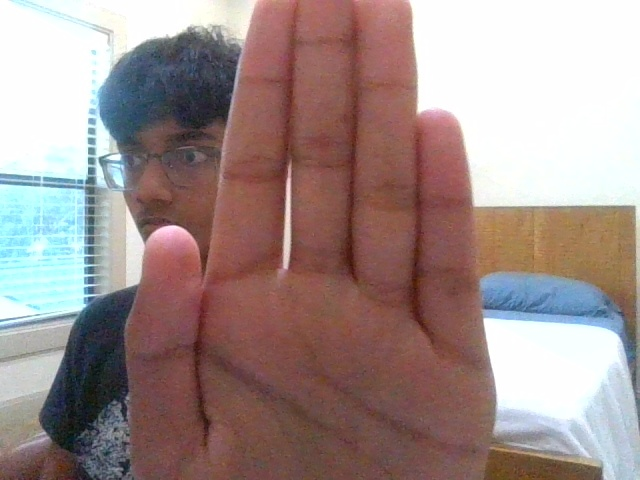hello: (124, 1, 497, 477)
